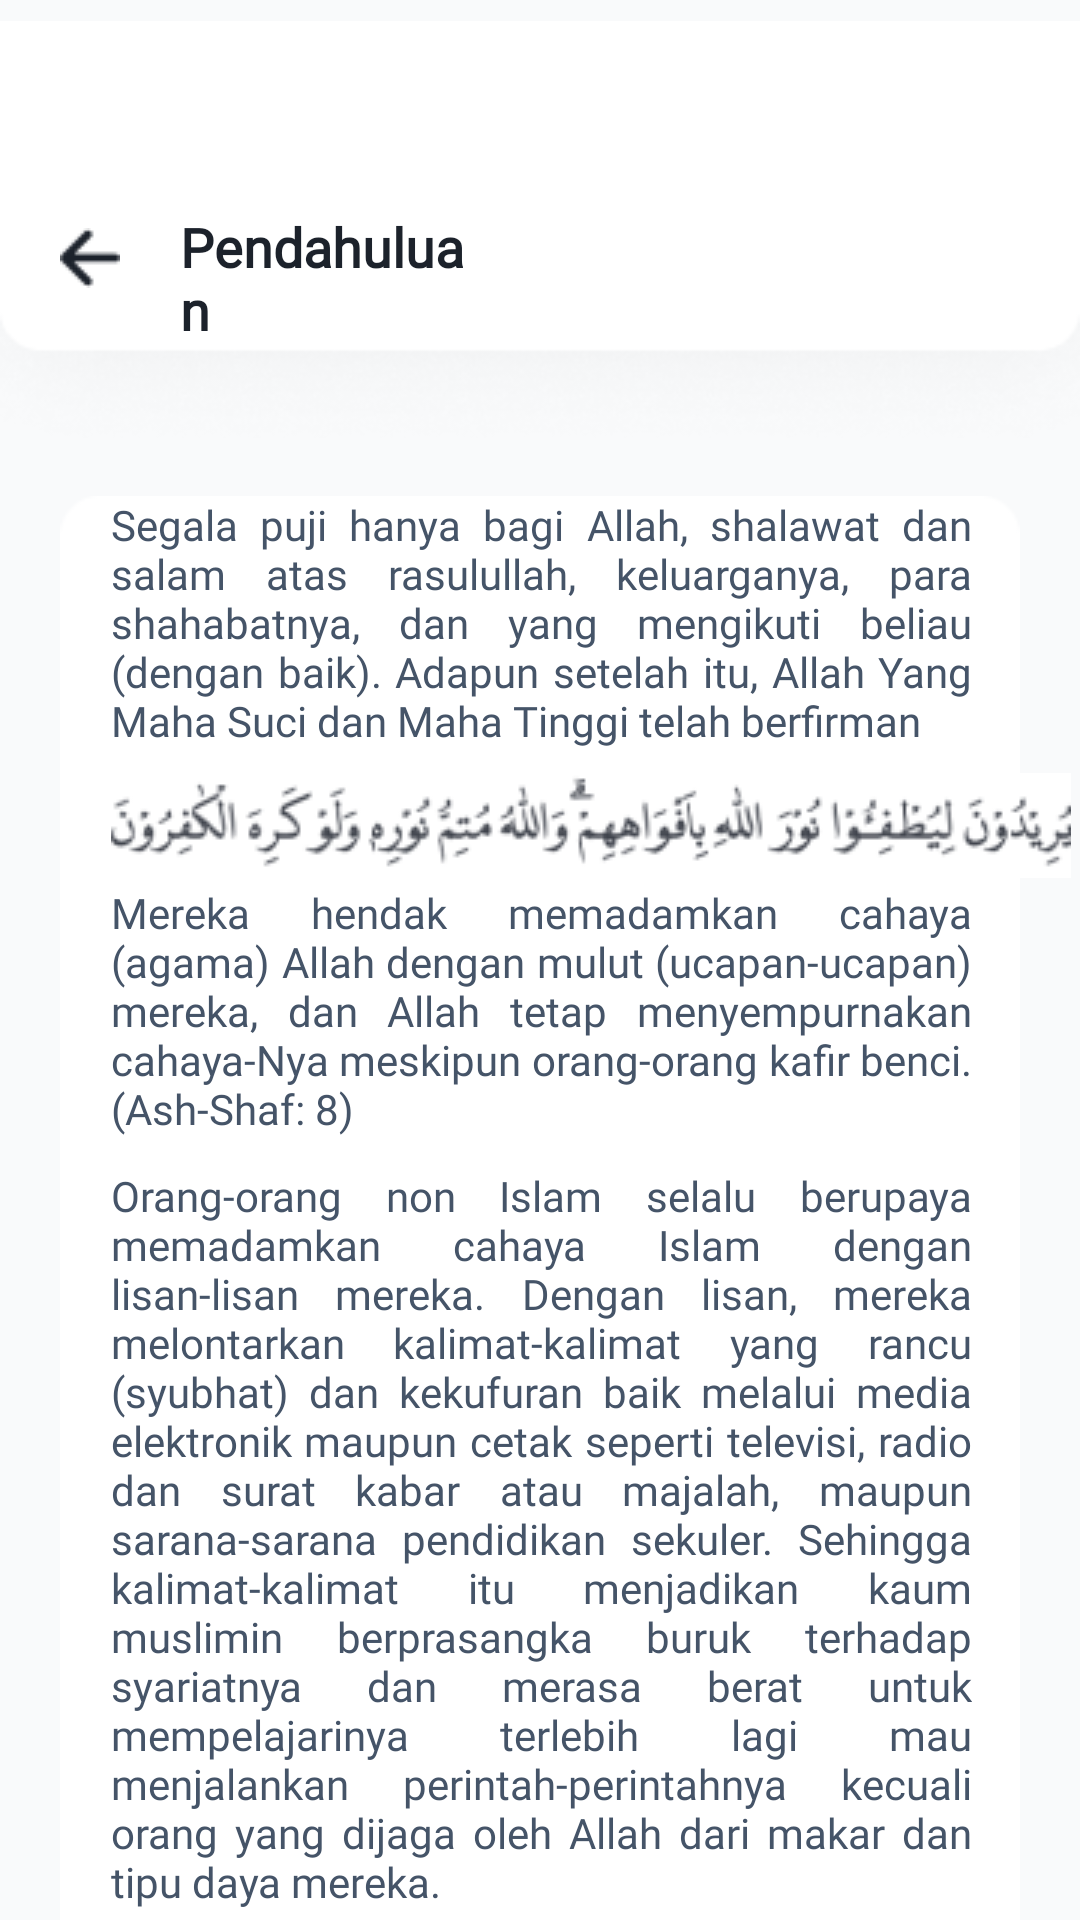

Icons on this 1080 × 1920 Android screen, each with its box as (x1, y1, x2, y2):
arrowback: (60, 228, 120, 288)
